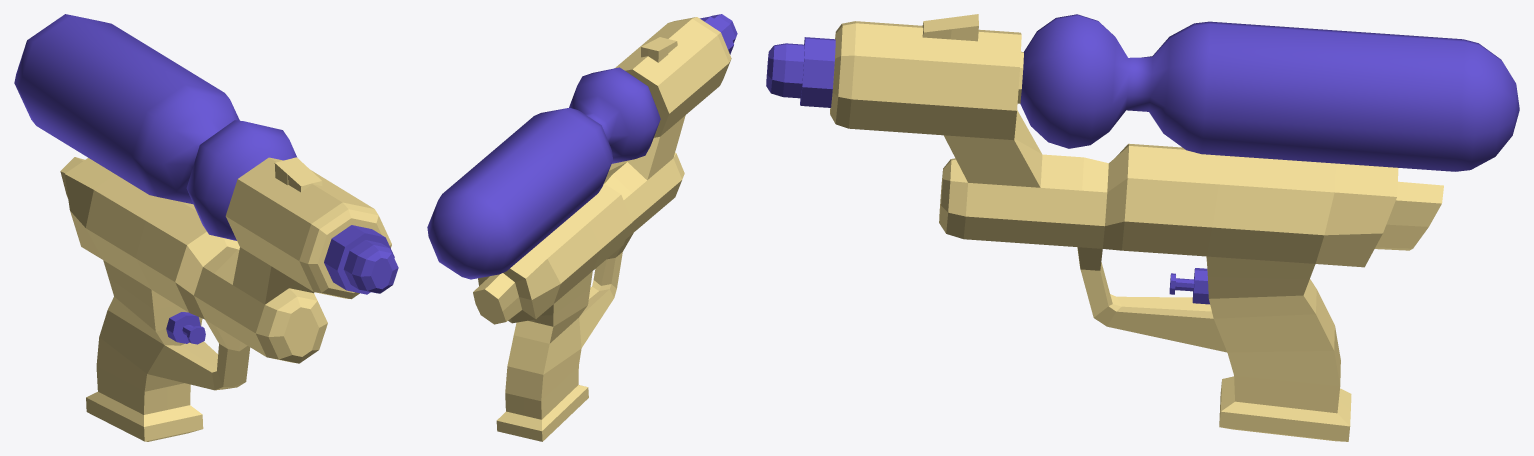
The model's file is WaterGun.fbx.
The picture shows the model from 3 angles, left to right: view 1: azimuth 30°, elevation 25°; view 2: azimuth 150°, elevation 25°; view 3: azimuth 270°, elevation 25°; orthographic projection. The views are drawn at different scales.
Visible parts, largest first — view 1: Cylinder; view 2: Cylinder; view 3: Cylinder.
Part boxes in pixels (x1=…): Cylinder: x1=14, y1=14, x2=398, y2=441; Cylinder: x1=427, y1=14, x2=737, y2=441; Cylinder: x1=766, y1=14, x2=1519, y2=441.
Size of the model in its own units: 95.9 by 309 by 505.
